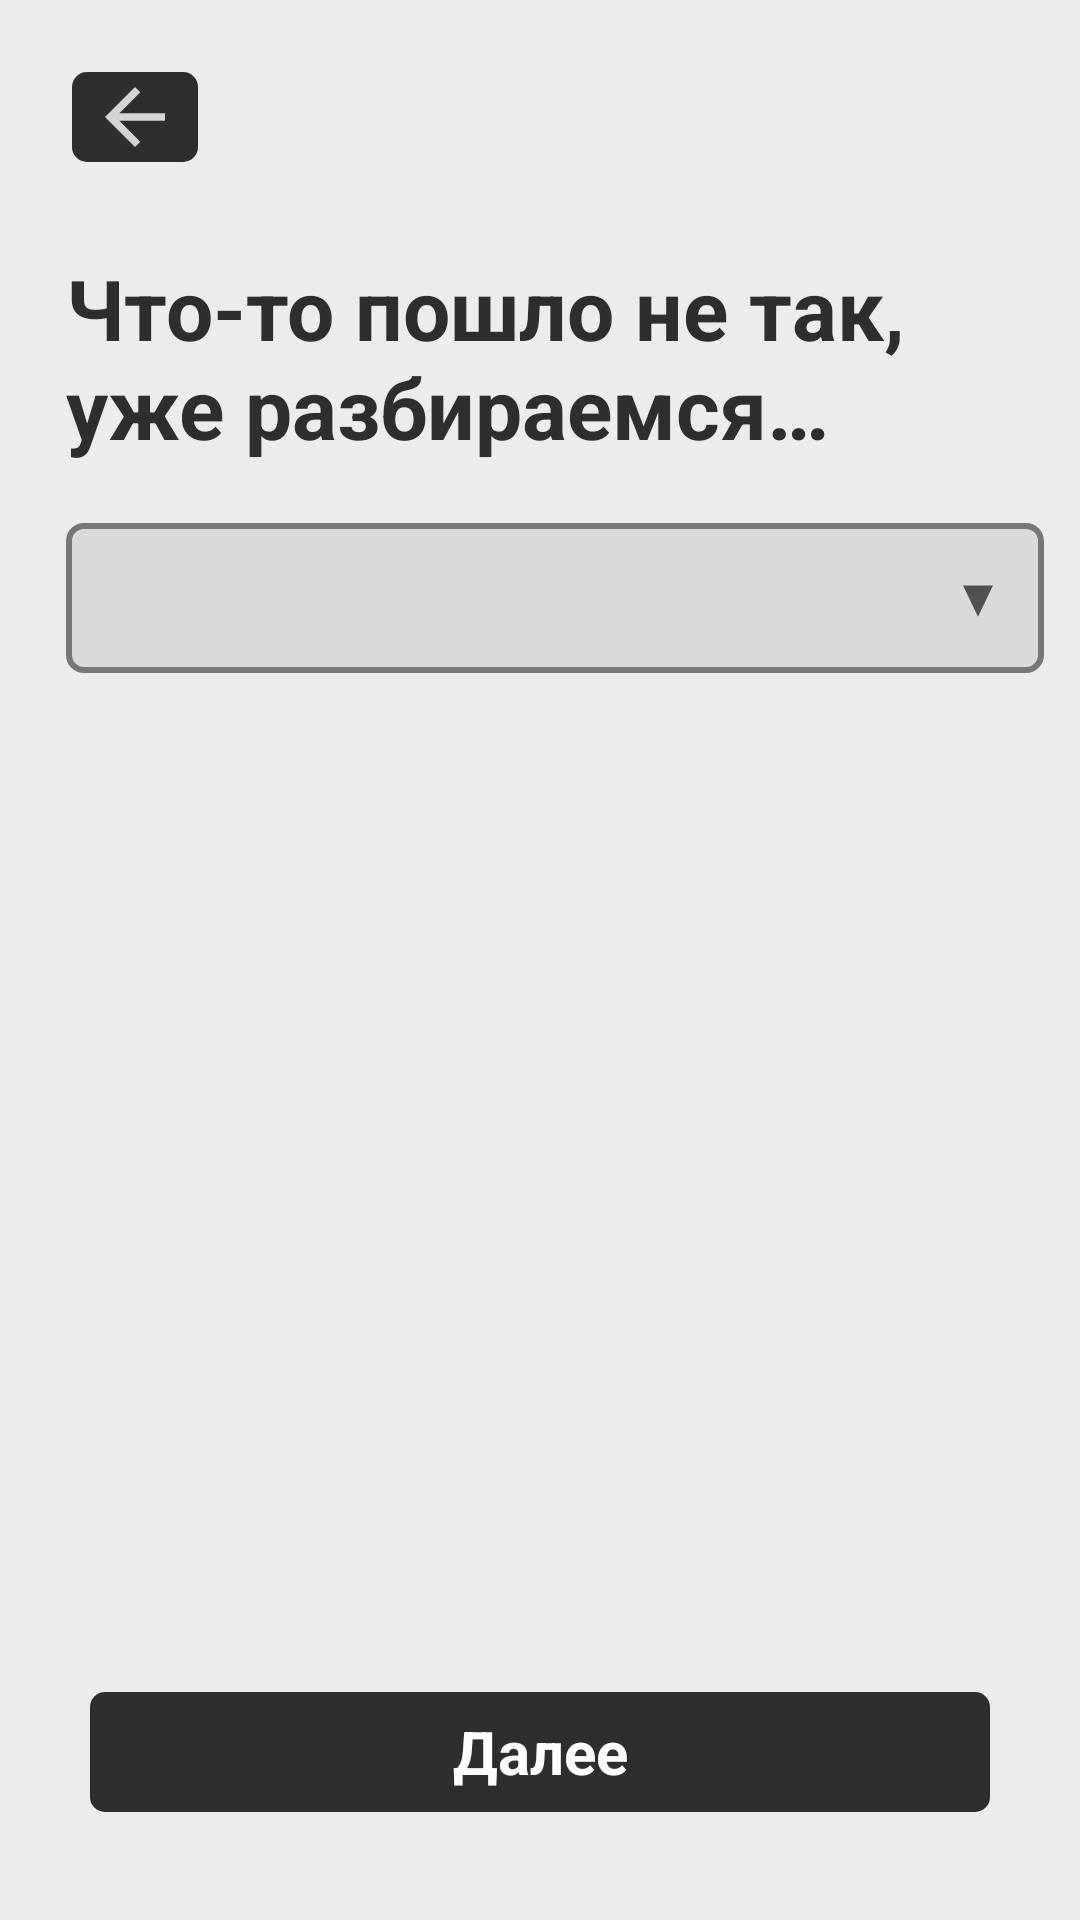

Locate icon controls on the screen. Image size 1080×1920, boxes as region(x1, y1, x2, y2).
back: region(72, 72, 198, 162)
